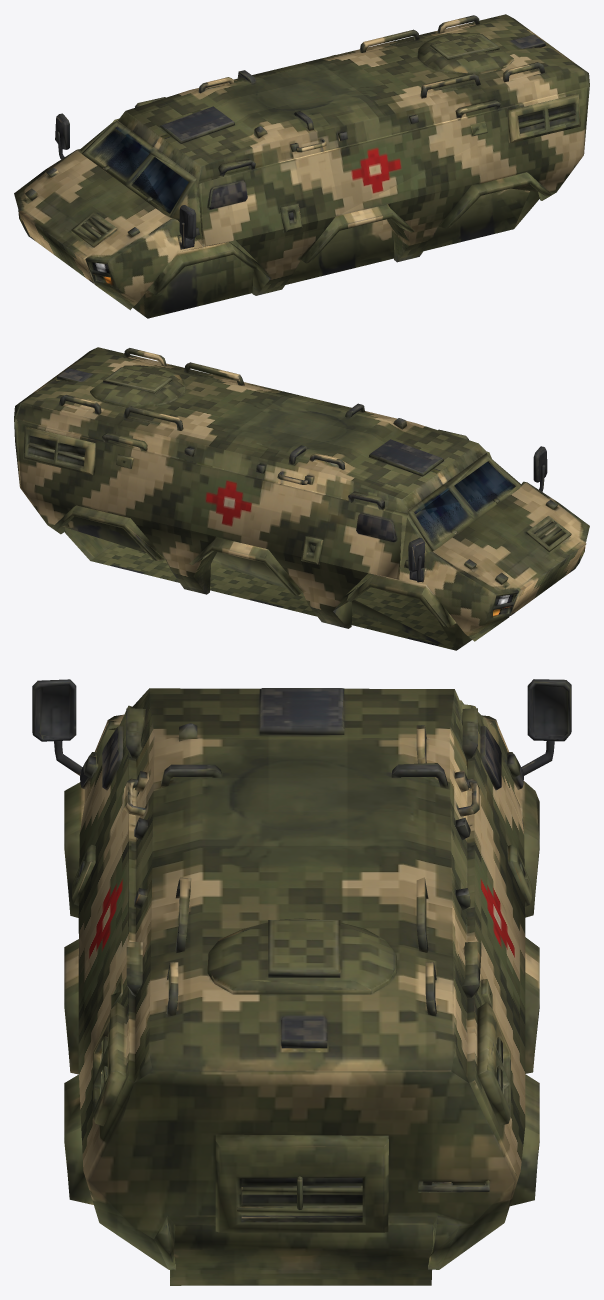
The model's file is tank_hull.fbx.
3 views of the same model, one above another, from view 1: azimuth 30°, elevation 25°; view 2: azimuth 150°, elevation 25°; view 3: azimuth 270°, elevation 25° (orthographic). The views are drawn at different scales.
Parts seen in each view (by area): view 1: Tank_Hull; view 2: Tank_Hull; view 3: Tank_Hull.
Part boxes in pixels (x1,y1,x2,y2): Tank_Hull: [14, 14, 589, 318]; Tank_Hull: [14, 347, 589, 650]; Tank_Hull: [32, 679, 571, 1285].
Bounding box in the file's own units: 0.9536 × 0.3013 × 0.4438.
